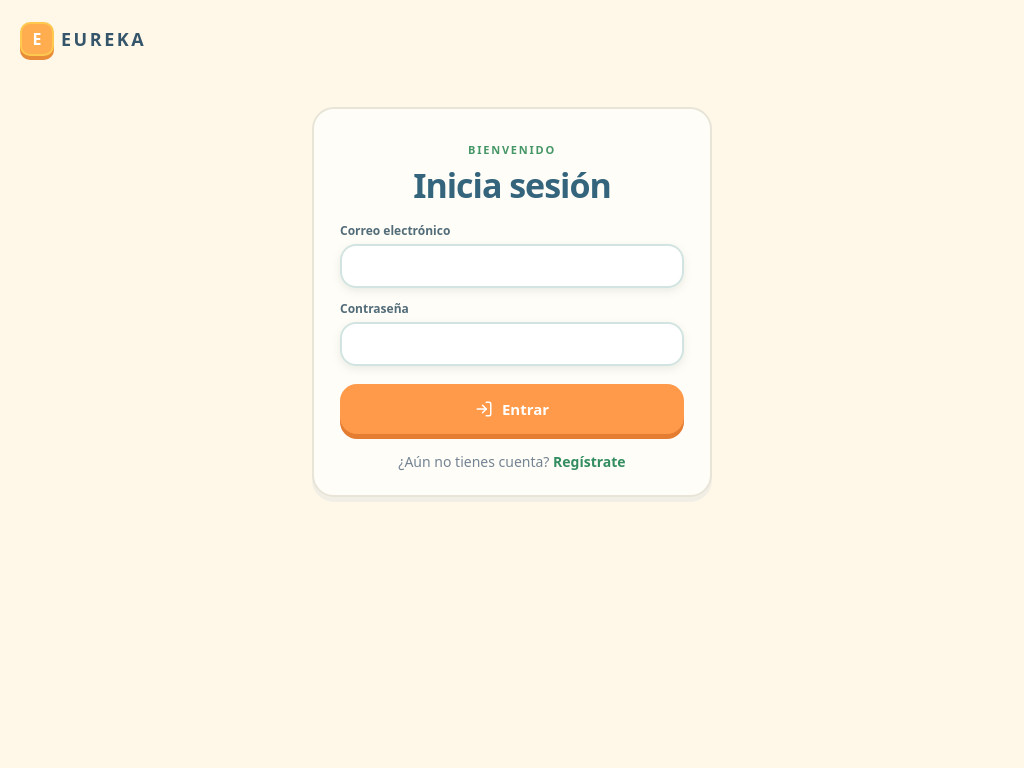
Scenario: acceso › inicia sesión y vuelve a la ruta que se intentó abrir
Sin sesión, `/` redirige al acceso.
Type "ana@example.com" into the field labelled "Correo electrónico".
click(512, 266); type("ana@example.com")  # box left=340, top=244, right=684, bottom=288
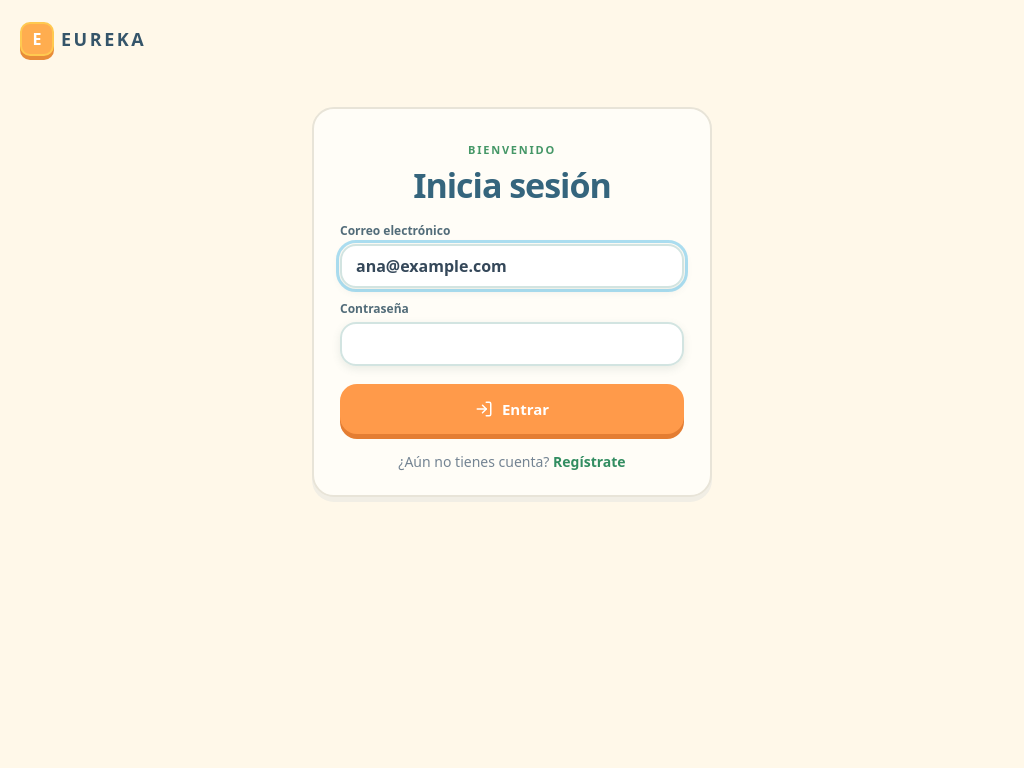
Type "correct-horse-battery" into the password field labelled "Contraseña".
click(512, 344); type("correct-horse-battery")  # box left=340, top=322, right=684, bottom=366
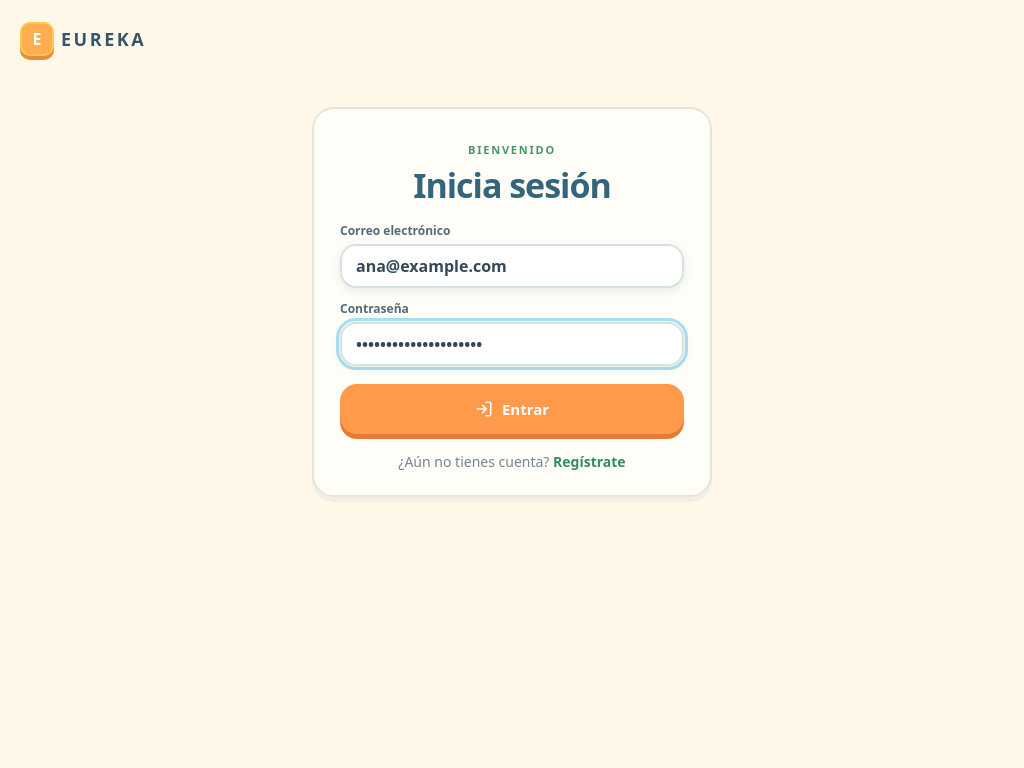
Click the button "Entrar".
click(512, 409)  # box left=340, top=384, right=684, bottom=434
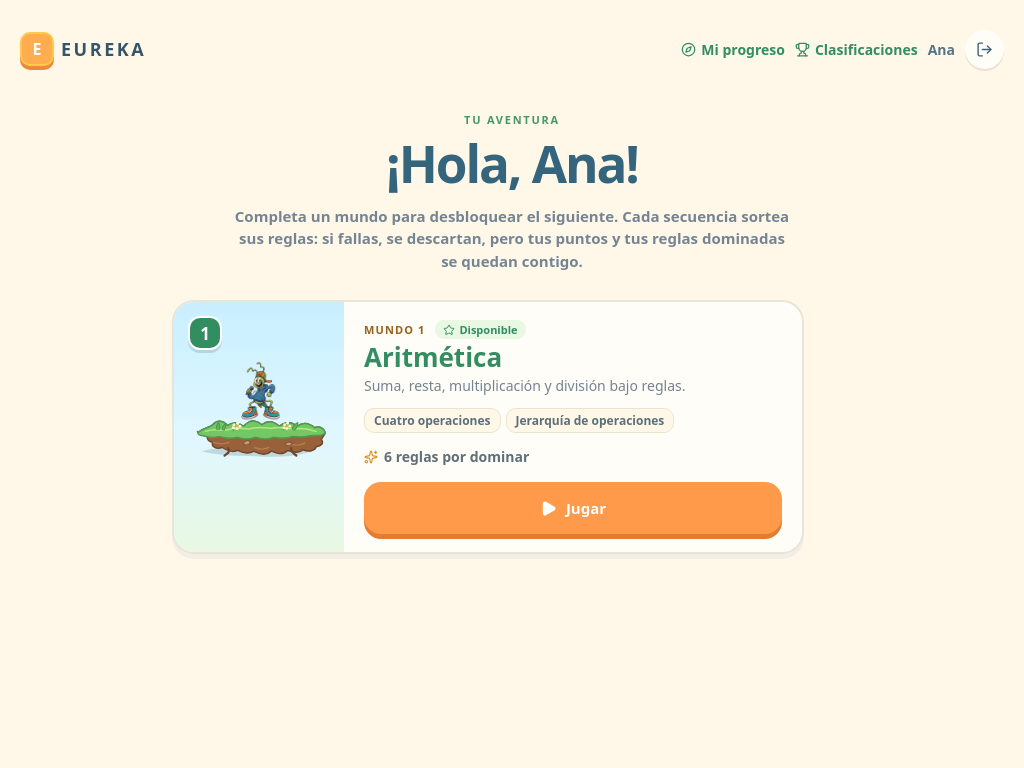
Expected: the heading "¡Hola, Ana!" is shown, left=386, top=137, right=638, bottom=191
